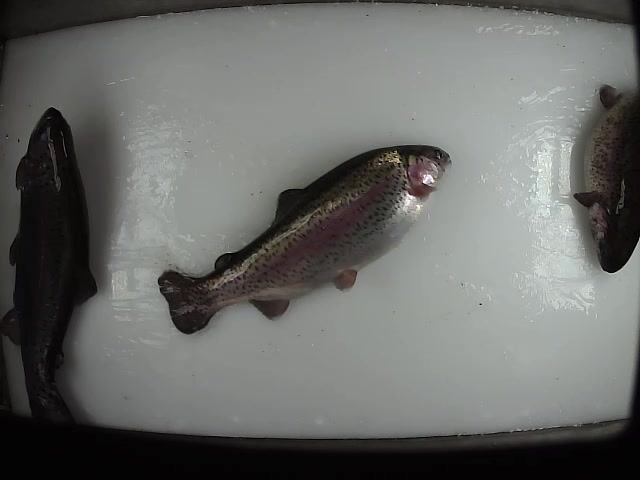fish: (157, 142, 455, 335), (1, 105, 99, 441), (572, 80, 640, 275)
